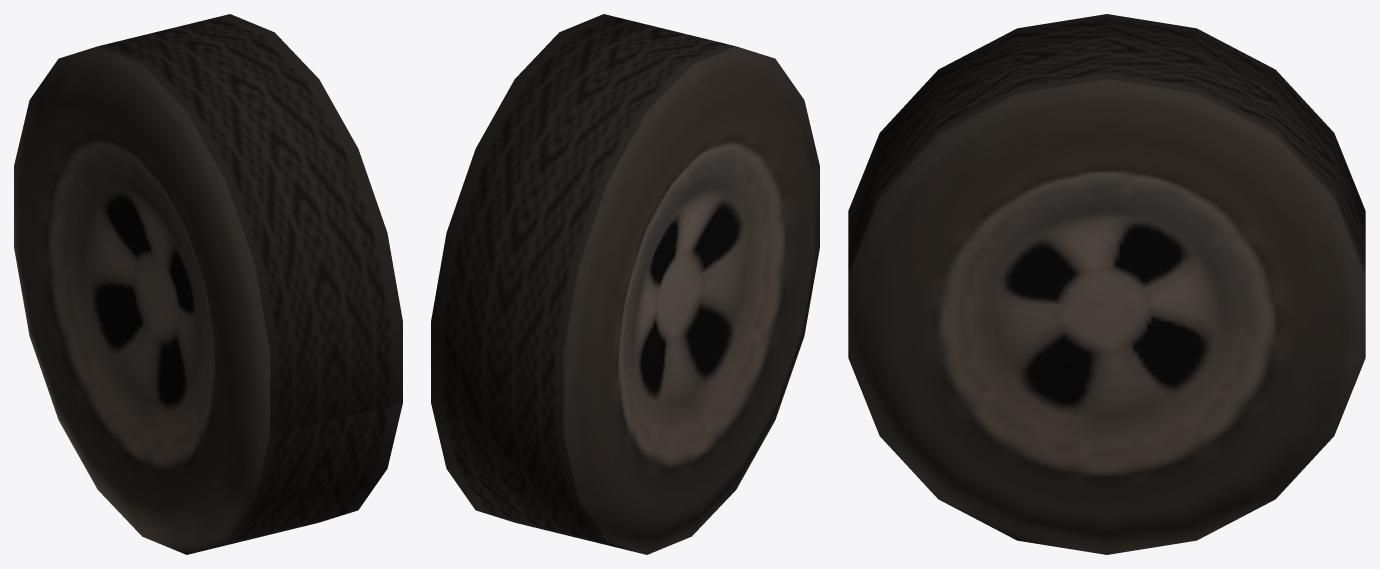
The model's file is lancero_wheel.obj.
3 renders of one model, left to right at view 1: azimuth 30°, elevation 25°; view 2: azimuth 150°, elevation 25°; view 3: azimuth 270°, elevation 25°, orthographic.
Visible parts, largest first — view 1: Mesh_wheel_Cylinder01x.003; view 2: Mesh_wheel_Cylinder01x.003; view 3: Mesh_wheel_Cylinder01x.003.
Part boxes in pixels (x1,y1,x2,y2): Mesh_wheel_Cylinder01x.003: (14,14,402,554); Mesh_wheel_Cylinder01x.003: (431,14,819,554); Mesh_wheel_Cylinder01x.003: (848,14,1365,554).
Bounding box in the file's own units: 0.7576 × 2.03 × 2.
1 material, 1 textured.
